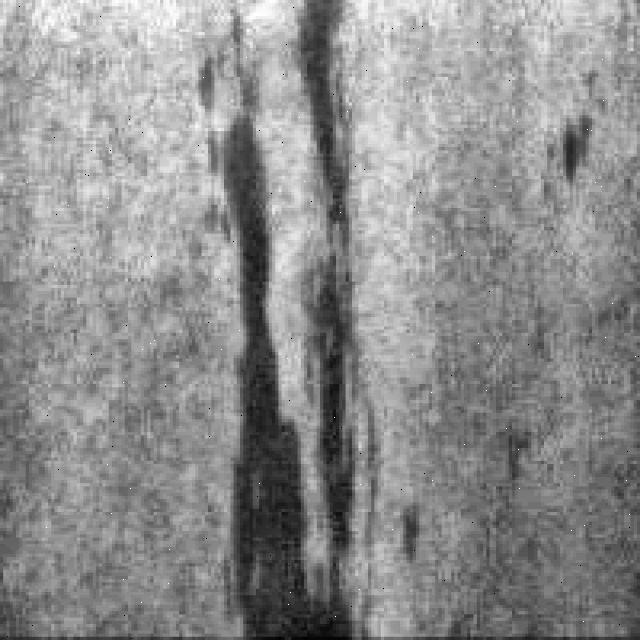Patches: (215, 6, 372, 628), (294, 0, 374, 269)
